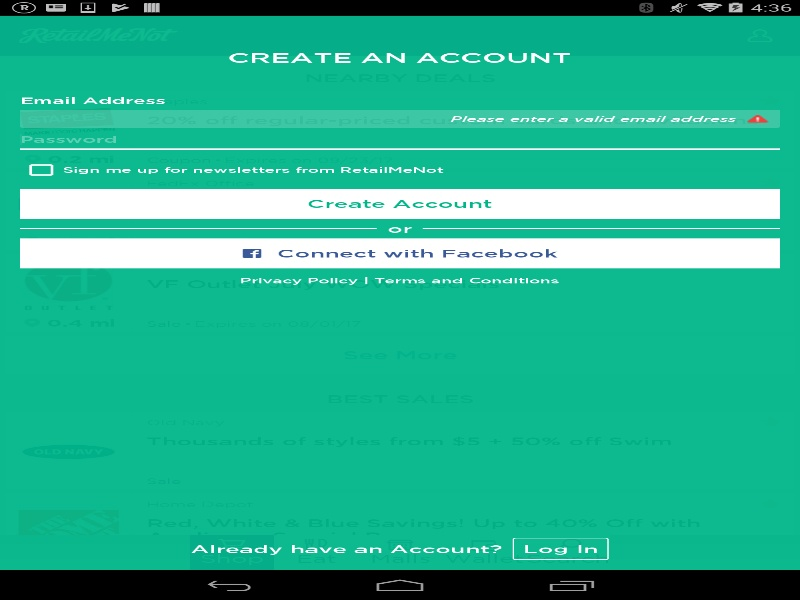Button: (512, 537, 608, 560)
Input: (20, 95, 780, 105), (20, 134, 780, 144)
